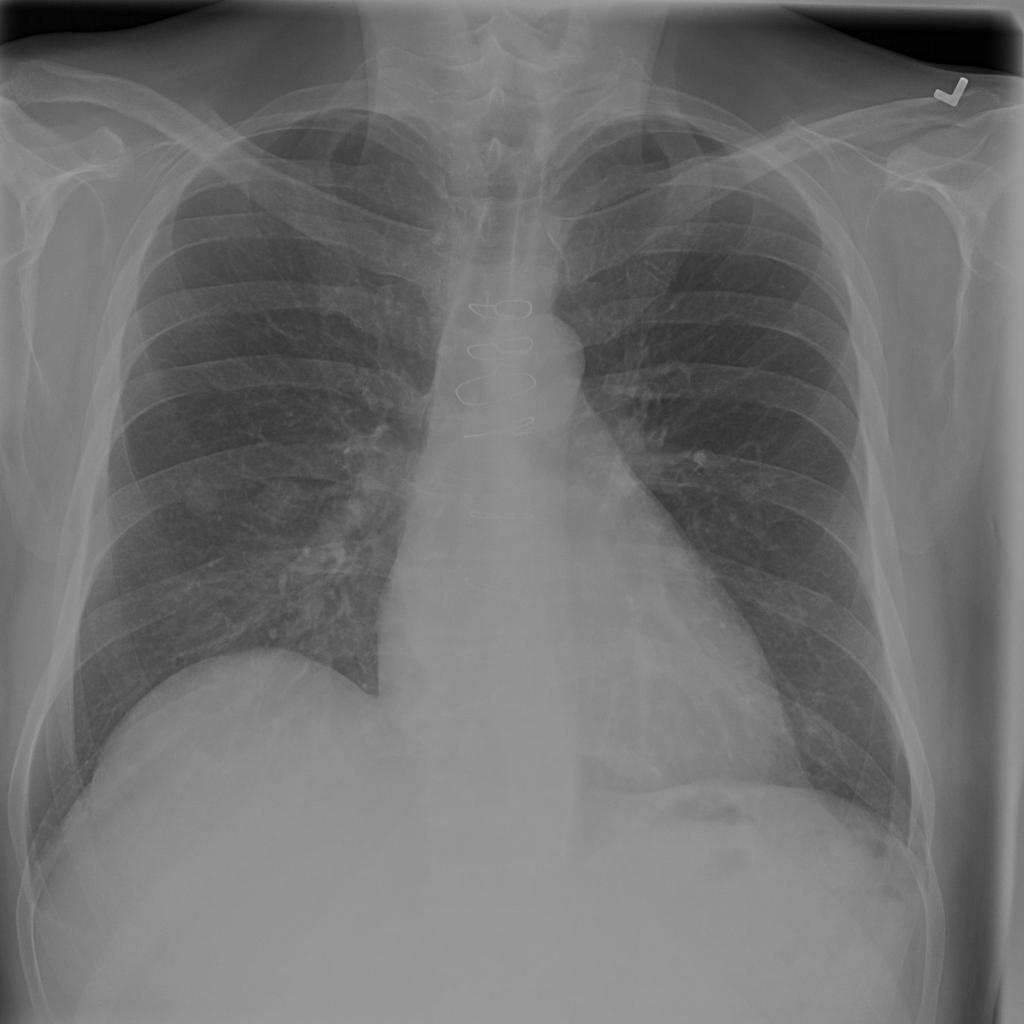nodule: (247, 462, 318, 530), (168, 461, 237, 530)
